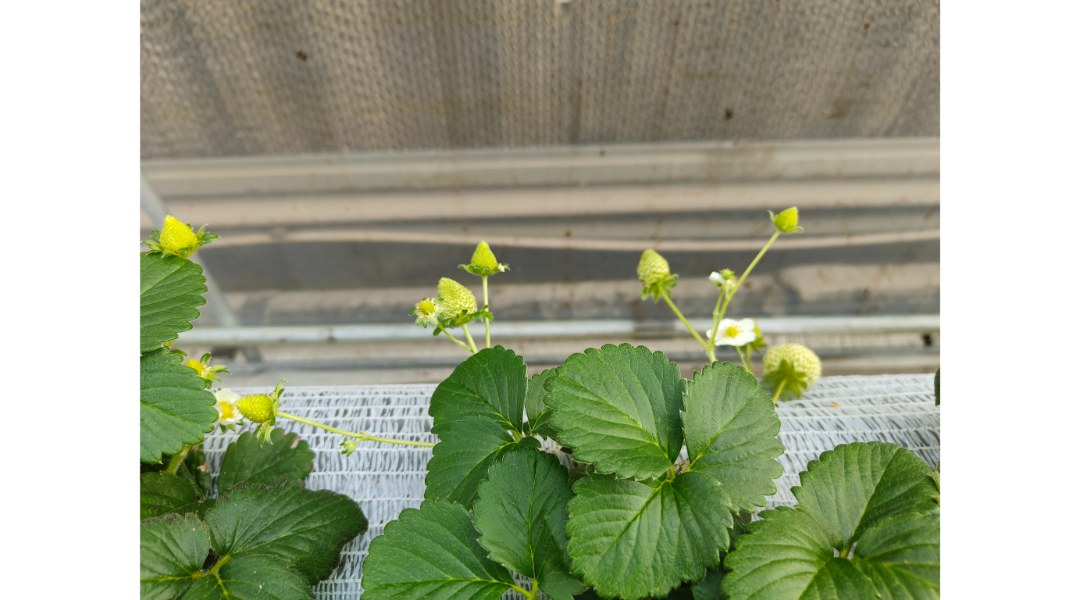berry: (759, 343, 827, 403), (147, 214, 223, 262), (629, 245, 682, 299), (459, 241, 521, 283), (435, 270, 479, 329), (235, 378, 274, 433), (763, 201, 805, 245), (407, 296, 449, 318), (335, 431, 368, 459)
flower: (706, 310, 764, 352)
strain: (284, 400, 443, 457), (663, 288, 693, 355), (749, 233, 777, 278)
